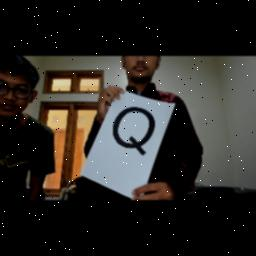q: (106, 102, 164, 160)
